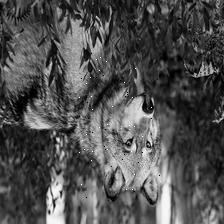WOLF: (79, 53, 161, 203)
